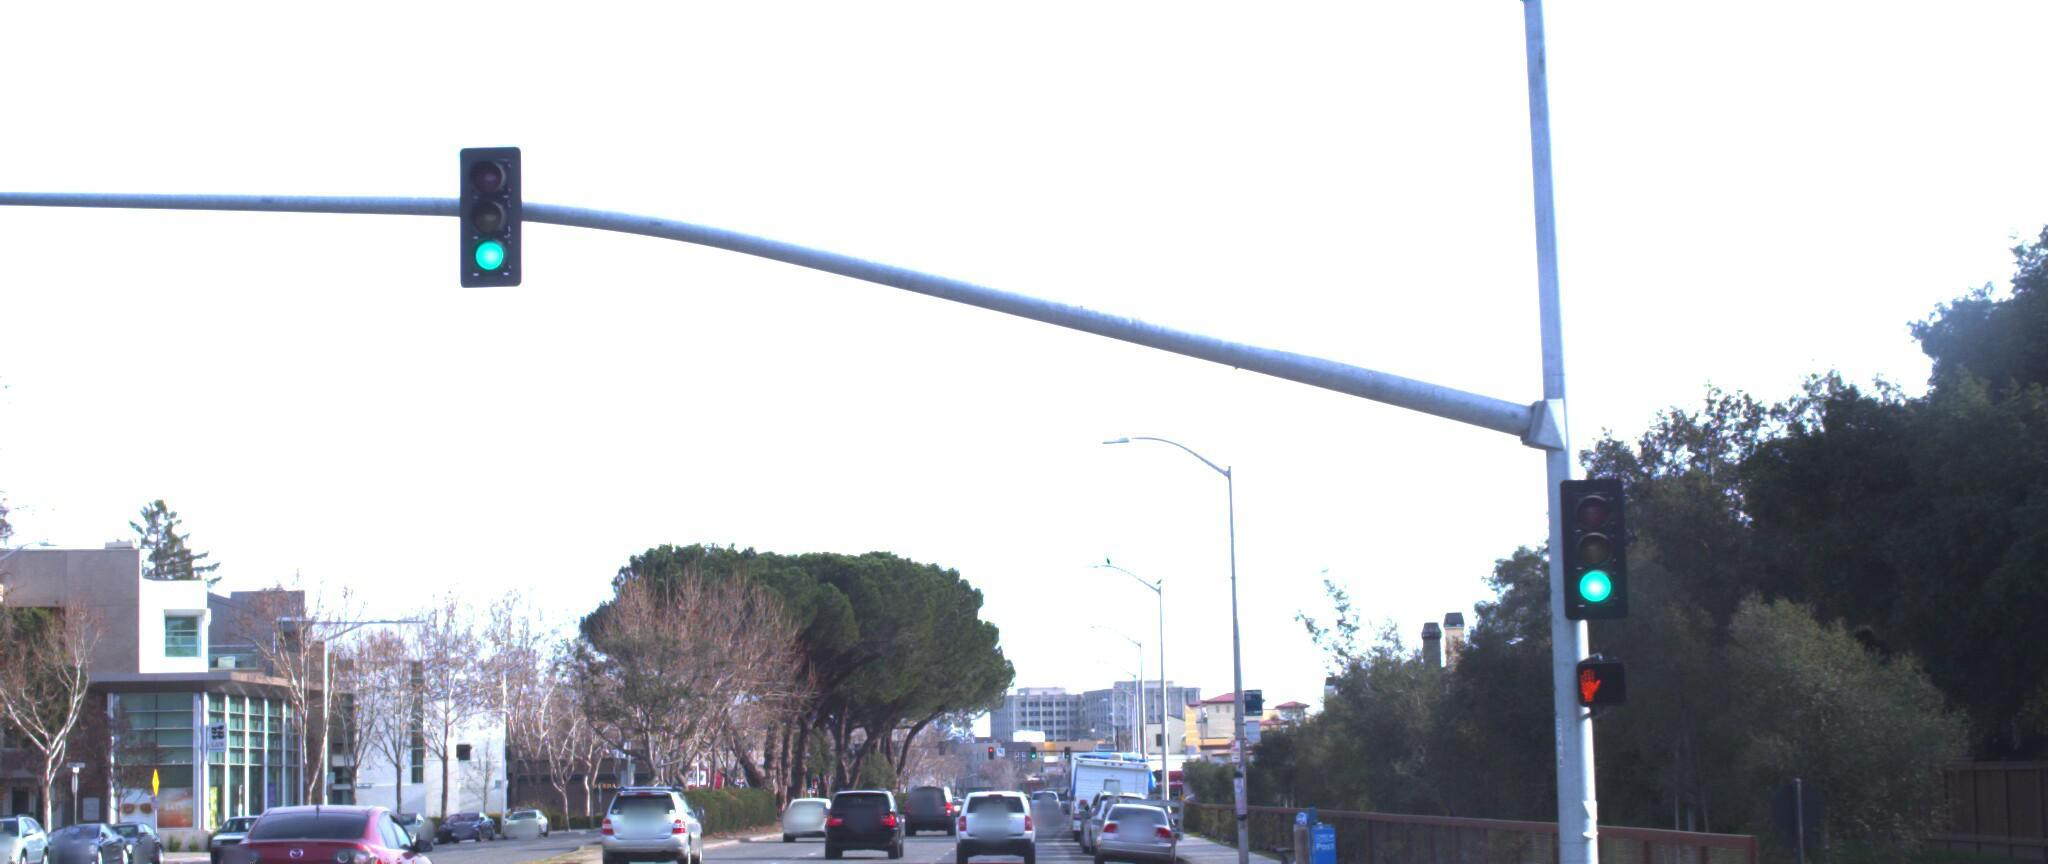car: (205, 784, 448, 864), (592, 782, 709, 864), (953, 782, 1042, 864), (1097, 788, 1187, 864), (820, 784, 904, 859)
